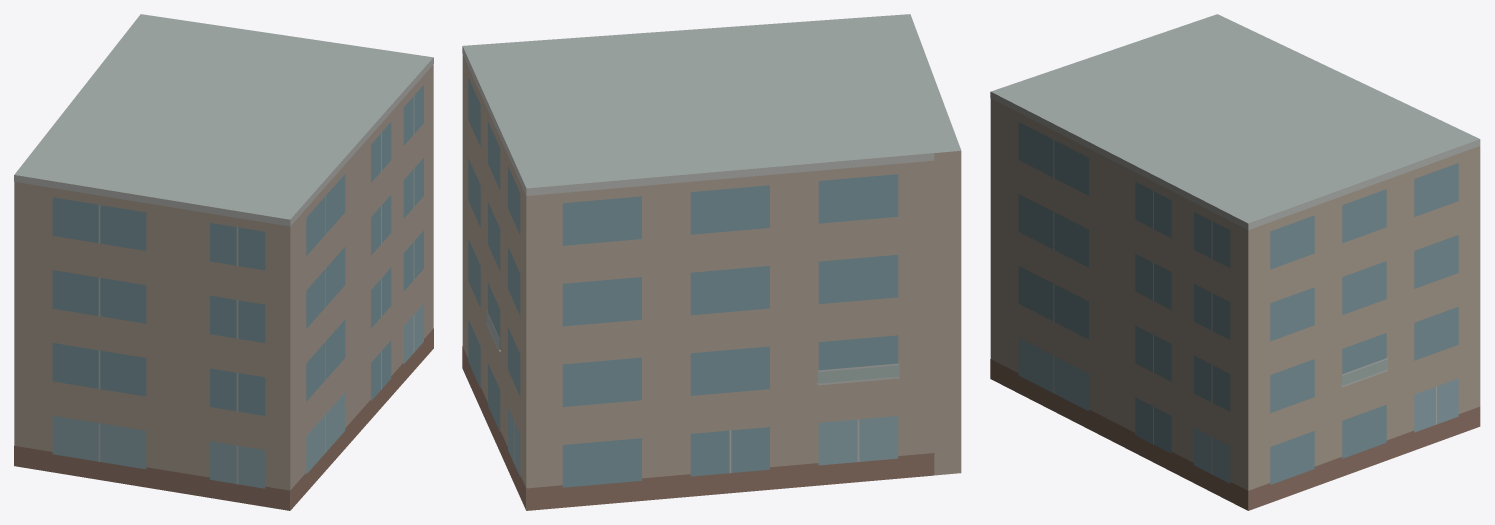
File: survey-upis-32648298.glb
The picture shows the model from 3 angles, left to right: view 1: azimuth 30°, elevation 25°; view 2: azimuth 150°, elevation 25°; view 3: azimuth 270°, elevation 25°; orthographic projection. The views are drawn at different scales.
Parts seen in each view (by area): view 1: survey-upis-32648298.tmp; view 2: survey-upis-32648298.tmp; view 3: survey-upis-32648298.tmp.
Part boxes in pixels (x1,y1,x2,y2): survey-upis-32648298.tmp: (14,14,433,510); survey-upis-32648298.tmp: (462,14,961,510); survey-upis-32648298.tmp: (990,14,1480,510).
Size of the model in its own units: 16.35 by 10.45 by 16.15.
